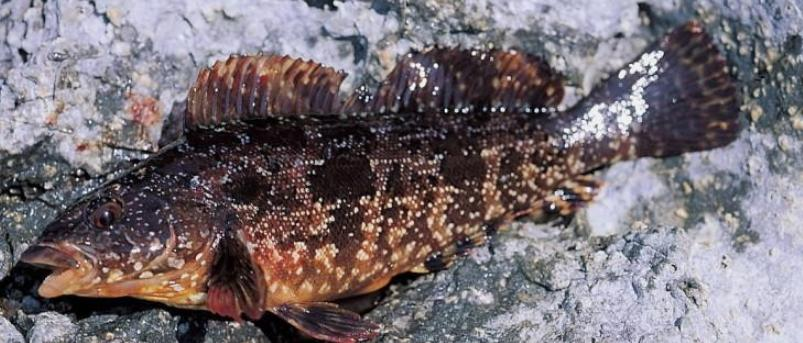fish: (22, 23, 738, 342)
